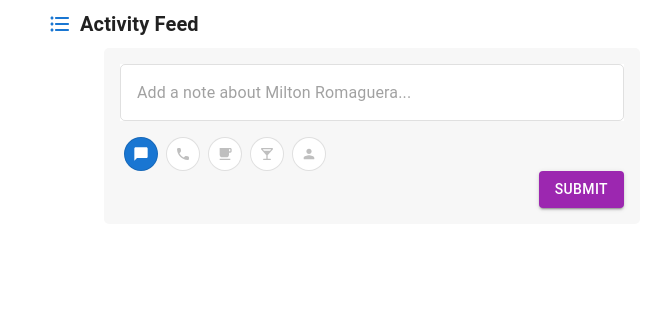
Test: Container component › add activity
This screenshot has width=665, height=332.
Type "mockActivity" into the field with placeholder "Add a note about Milton Romaguera...".
click(372, 92); type("mockActivity")  # box left=120, top=64, right=624, bottom=121
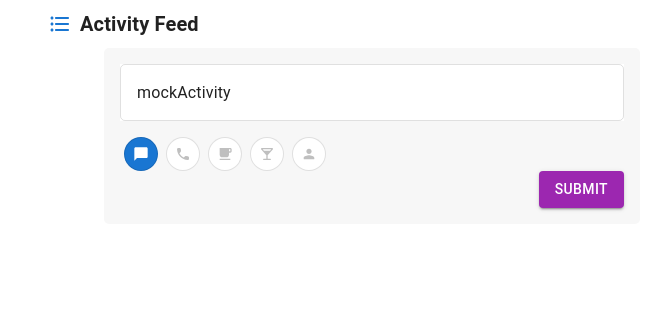
Click the button "Submit".
click(581, 189)  # box left=539, top=171, right=624, bottom=208
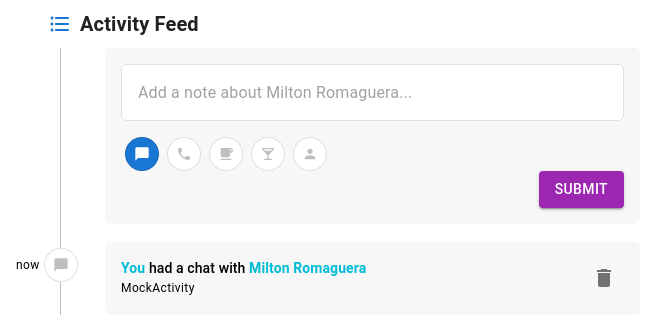
Expected: the number of elements with test id "activity" is 1, left=48, top=248, right=648, bottom=315
